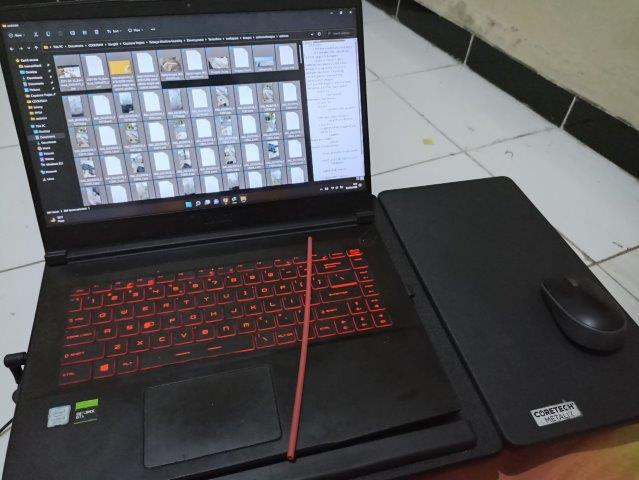sedotan: (288, 238, 311, 457)
